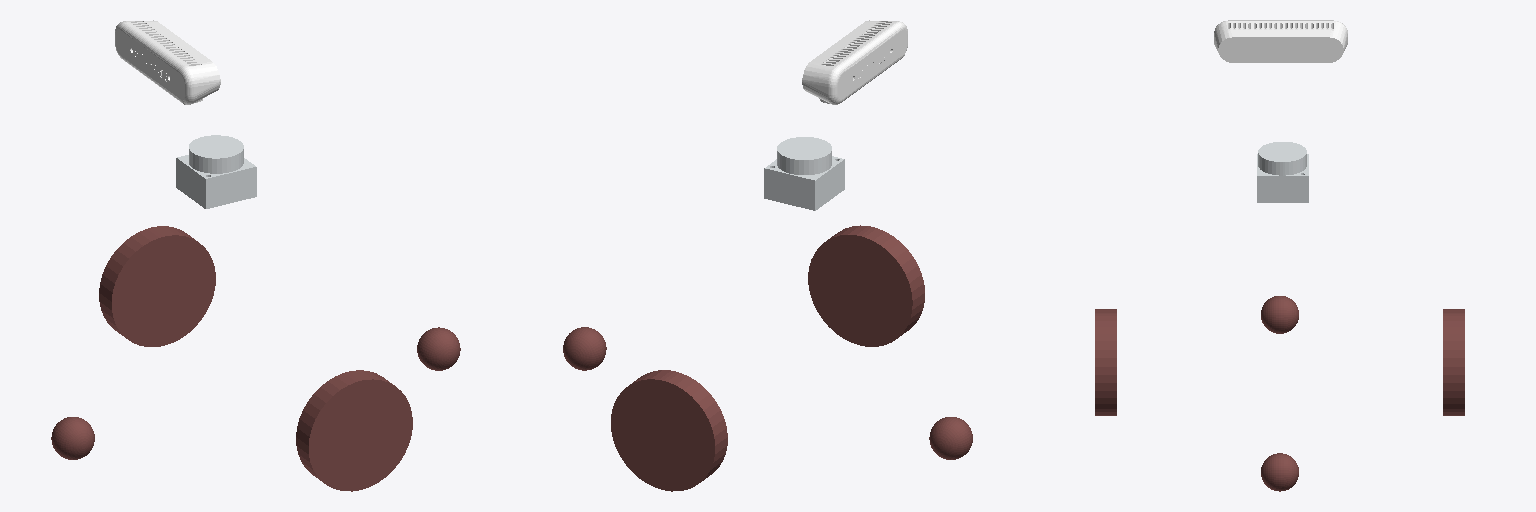
URDF robot description (prueba_jaya):
<?xml version="1.0" encoding="utf-8"?>
<!-- This URDF was automatically created by SolidWorks to URDF Exporter! Originally created by [author] ([email redacted]) 
     Commit Version: 1.6.0-4-g7f85cfe  Build Version: 1.6.7995.38578
     For more information, please see http://wiki.ros.org/sw_urdf_exporter -->
<robot
  name="prueba_jaya">
  <link
    name="base_link">
    <inertial>
      <origin
        xyz="0.046344 -0.00040698 0.043458"
        rpy="0 0 0" />
      <mass
        value="35.592" />
      <inertia
        ixx="0.28872"
        ixy="0.0043751"
        ixz="0.007308"
        iyy="0.17123"
        iyz="0.00033454"
        izz="0.42993" />
    </inertial>
    <visual>
      <origin
        xyz="0 0 0"
        rpy="0 0 0" />
      <geometry>
        <mesh
          filename="package://prueba_jaya/meshes/base_link.STL" />
      </geometry>
      <material
        name="">
        <color
          rgba="0.75294 0.75294 0.75294 1" />
      </material>
    </visual>
    <collision>
      <origin
        xyz="0 0 0"
        rpy="0 0 0" />
      <geometry>
        <mesh
          filename="package://prueba_jaya/meshes/base_link.STL" />
      </geometry>
    </collision>
  </link>
  <link
    name="rueda_derecha_link">
    <inertial>
      <origin
        xyz="0 8.6736E-19 1.3878E-17"
        rpy="0 0 0" />
      <mass
        value="0.54355" />
      <inertia
        ixx="0.0001863"
        ixy="1.4078E-33"
        ixz="-1.0337E-16"
        iyy="0.0001863"
        iyz="-2.2382E-21"
        izz="0.00035222" />
    </inertial>
    <visual>
      <origin
        xyz="0 0 0"
        rpy="0 0 0" />
      <geometry>
        <mesh
          filename="package://prueba_jaya/meshes/rueda_derecha_link.STL" />
      </geometry>
      <material
        name="">
        <color
          rgba="0.53725 0.34902 0.33725 1" />
      </material>
    </visual>
    <collision>
      <origin
        xyz="0 0 0"
        rpy="0 0 0" />
      <geometry>
        <mesh
          filename="package://prueba_jaya/meshes/rueda_derecha_link.STL" />
      </geometry>
    </collision>
  </link>
  <joint
    name="rueda_derecha_joint"
    type="continuous">
    <origin
      xyz="0 -0.11755 0.023608"
      rpy="1.5708 0 3.1416" />
    <parent
      link="base_link" />
    <child
      link="rueda_derecha_link" />
    <axis
      xyz="0 0 1" />
    <limit
      effort="100"
      velocity="100" />
    <dynamics
      damping="0.1"
      friction="0.1" />
  </joint>
  <link
    name="rueda_izquierda_link">
    <inertial>
      <origin
        xyz="1.0534E-19 8.6736E-19 -1.3878E-17"
        rpy="0 0 0" />
      <mass
        value="0.54355" />
      <inertia
        ixx="0.0001863"
        ixy="-1.3925E-33"
        ixz="-1.032E-16"
        iyy="0.0001863"
        iyz="2.2382E-21"
        izz="0.00035222" />
    </inertial>
    <visual>
      <origin
        xyz="0 0 0"
        rpy="0 0 0" />
      <geometry>
        <mesh
          filename="package://prueba_jaya/meshes/rueda_izquierda_link.STL" />
      </geometry>
      <material
        name="">
        <color
          rgba="0.53725 0.34902 0.33725 1" />
      </material>
    </visual>
    <collision>
      <origin
        xyz="0 0 0"
        rpy="0 0 0" />
      <geometry>
        <mesh
          filename="package://prueba_jaya/meshes/rueda_izquierda_link.STL" />
      </geometry>
    </collision>
  </link>
  <joint
    name="rueda_izquierda_joint"
    type="continuous">
    <origin
      xyz="0 0.11755 0.023608"
      rpy="1.5708 0 3.1416" />
    <parent
      link="base_link" />
    <child
      link="rueda_izquierda_link" />
    <axis
      xyz="0 0 1" />
    <limit
      effort="100"
      velocity="100" />
    <dynamics
      damping="0.1"
      friction="0.1" />
  </joint>
  <link
    name="castor_front_link">
    <inertial>
      <origin
        xyz="0 0 0"
        rpy="0 0 0" />
      <mass
        value="0.081382" />
      <inertia
        ixx="5.478E-06"
        ixy="0"
        ixz="-2.6151E-38"
        iyy="5.478E-06"
        iyz="1.9156E-38"
        izz="5.478E-06" />
    </inertial>
    <visual>
      <origin
        xyz="0 0 0"
        rpy="0 0 0" />
      <geometry>
        <mesh
          filename="package://prueba_jaya/meshes/castor_front_link.STL" />
      </geometry>
      <material
        name="">
        <color
          rgba="0.53725 0.34902 0.33725 1" />
      </material>
    </visual>
    <collision>
      <origin
        xyz="0 0 0"
        rpy="0 0 0" />
      <geometry>
        <mesh
          filename="package://prueba_jaya/meshes/castor_front_link.STL" />
      </geometry>
    </collision>
  </link>
  <joint
    name="castor_front_joint"
    type="fixed">
    <origin
      xyz="0.126 0 0.00058007"
      rpy="0 0 0" />
    <parent
      link="base_link" />
    <child
      link="castor_front_link" />
    <axis
      xyz="0 0 0" />
    <limit
      effort="100"
      velocity="100" />
    <dynamics
      damping="0.1"
      friction="0.1" />
  </joint>
  <link
    name="castor_back_link">
    <inertial>
      <origin
        xyz="0 0 0"
        rpy="0 0 0" />
      <mass
        value="0.081382" />
      <inertia
        ixx="5.478E-06"
        ixy="0"
        ixz="-2.6151E-38"
        iyy="5.478E-06"
        iyz="1.9156E-38"
        izz="5.478E-06" />
    </inertial>
    <visual>
      <origin
        xyz="0 0 0"
        rpy="0 0 0" />
      <geometry>
        <mesh
          filename="package://prueba_jaya/meshes/castor_back_link.STL" />
      </geometry>
      <material
        name="">
        <color
          rgba="0.53725 0.34902 0.33725 1" />
      </material>
    </visual>
    <collision>
      <origin
        xyz="0 0 0"
        rpy="0 0 0" />
      <geometry>
        <mesh
          filename="package://prueba_jaya/meshes/castor_back_link.STL" />
      </geometry>
    </collision>
  </link>
  <joint
    name="castor_back_joint"
    type="fixed">
    <origin
      xyz="-0.126 0 0.00058007"
      rpy="0 0 0" />
    <parent
      link="base_link" />
    <child
      link="castor_back_link" />
    <axis
      xyz="0 0 0" />
    <limit
      effort="100"
      velocity="100" />
    <dynamics
      damping="0.1"
      friction="0.1" />
  </joint>
  <link
    name="lidar_link">
    <inertial>
      <origin
        xyz="4.1219E-07 -1.3901E-06 0.013915"
        rpy="0 0 0" />
      <mass
        value="0.08848" />
      <inertia
        ixx="1.4384E-05"
        ixy="1.5173E-07"
        ixz="-4.0427E-10"
        iyy="1.4384E-05"
        iyz="1.3634E-09"
        izz="1.6345E-05" />
    </inertial>
    <visual>
      <origin
        xyz="0 0 0"
        rpy="0 0 0" />
      <geometry>
        <mesh
          filename="package://prueba_jaya/meshes/lidar_link.STL" />
      </geometry>
      <material
        name="">
        <color
          rgba="0.89804 0.91765 0.92941 1" />
      </material>
    </visual>
    <collision>
      <origin
        xyz="0 0 0"
        rpy="0 0 0" />
      <geometry>
        <mesh
          filename="package://prueba_jaya/meshes/lidar_link.STL" />
      </geometry>
    </collision>
  </link>
  <joint
    name="lidar_joint"
    type="fixed">
    <origin
      xyz="-0.026219 0.0017912 0.1385"
      rpy="0 0 0" />
    <parent
      link="base_link" />
    <child
      link="lidar_link" />
    <axis
      xyz="0 0 0" />
    <limit
      effort="100"
      velocity="100" />
    <dynamics
      damping="0.1"
      friction="0.1" />
  </joint>
  <link
    name="camara_link">
    <inertial>
      <origin
        xyz="0 0 0"
        rpy="0 0 0" />
      <mass
        value="0.005" />
      <inertia
        ixx="1.4384E-05"
        ixy="1.4384E-05"
        ixz="1.4384E-05"
        iyy="1.4384E-05"
        iyz="1.4384E-05"
        izz="1.4384E-05" />
    </inertial>
    <visual>
      <origin
        xyz="0 0 0"
        rpy="0 0 0" />
      <geometry>
        <mesh
          filename="package://prueba_jaya/meshes/camara_link.STL" />
      </geometry>
      <material
        name="">
        <color
          rgba="1 1 1 1" />
      </material>
    </visual>
    <collision>
      <origin
        xyz="0 0 0"
        rpy="0 0 0" />
      <geometry>
        <mesh
          filename="package://prueba_jaya/meshes/camara_link.STL" />
      </geometry>
    </collision>
  </link>
  <joint
    name="camara_joint"
    type="fixed">
    <origin
      xyz="-0.072415 0.00070842 0.234"
      rpy="0 0 0" />
    <parent
      link="base_link" />
    <child
      link="camara_link" />
    <axis
      xyz="0 0 0" />
    <limit
      effort="100"
      velocity="100" />
    <dynamics
      damping="0.1"
      friction="0.1" />
  </joint>
</robot>

--- Facts derived from the render (not from the file) ---
Views: 3 orthographic renders of the robot side by side, from view 1: azimuth 30°, elevation 25°; view 2: azimuth 150°, elevation 25°; view 3: azimuth 270°, elevation 25°.
Robot: prueba_jaya — 7 links, 6 joints (2 continuous, 4 fixed); root link base_link; default pose: every joint at zero.
Visible links, largest first — view 1: rueda_izquierda_link, rueda_derecha_link, camara_link, lidar_link, castor_back_link, castor_front_link; view 2: rueda_derecha_link, rueda_izquierda_link, camara_link, lidar_link, castor_front_link, castor_back_link; view 3: camara_link, lidar_link, rueda_derecha_link, rueda_izquierda_link, castor_front_link, castor_back_link.
Link boxes in pixels (x1,y1,x2,y2): rueda_izquierda_link: (99,226,215,346); rueda_derecha_link: (296,370,412,491); camara_link: (115,20,220,104); lidar_link: (176,135,256,208); castor_back_link: (51,417,94,459); castor_front_link: (417,327,460,370); rueda_derecha_link: (808,225,924,346); rueda_izquierda_link: (611,370,727,491); camara_link: (802,20,907,104); lidar_link: (764,137,844,210); castor_front_link: (563,327,606,370); castor_back_link: (929,417,972,459); camara_link: (1214,20,1347,62); lidar_link: (1257,142,1308,202); rueda_derecha_link: (1095,309,1116,415); rueda_izquierda_link: (1443,309,1464,415); castor_front_link: (1261,453,1298,491); castor_back_link: (1261,296,1298,333).
Bounding box of the posed robot: 0.2779 × 0.2501 × 0.2588 m (x, y, z).
Meshes: 7 distinct files referenced, 6 mesh visuals loaded (6 binary STL); not drawn: 1 (reference not matched to a file when rendering).
